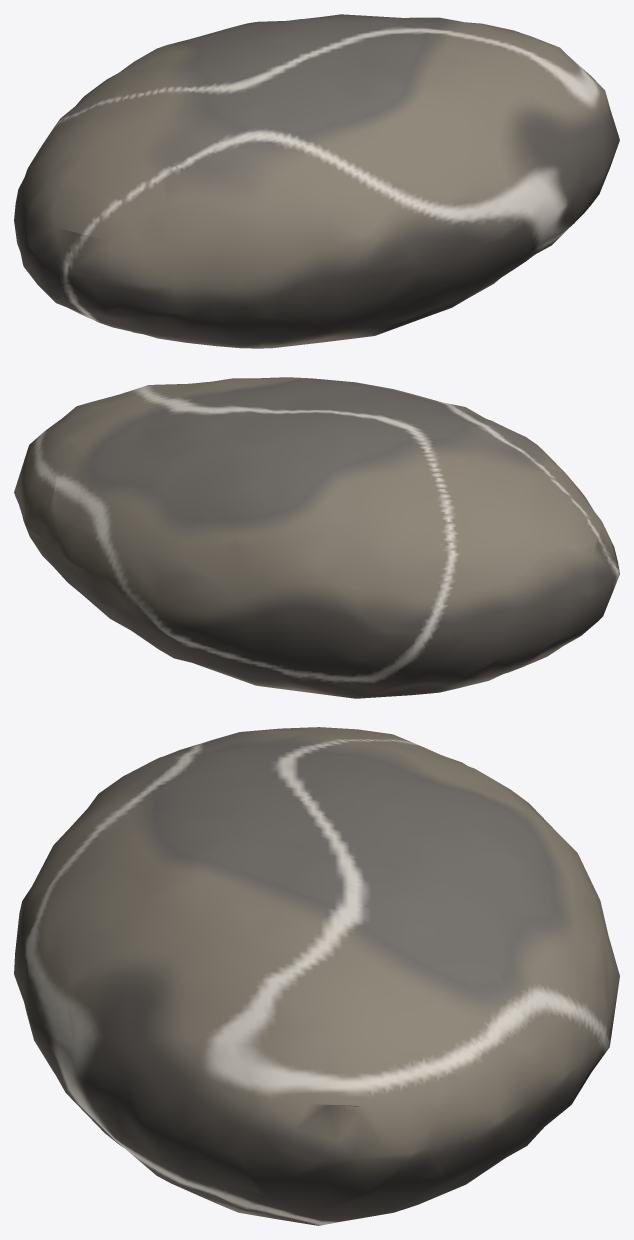
The model's file is piedra_rio.fbx.
3 renders of one model, top to bottom at view 1: azimuth 30°, elevation 25°; view 2: azimuth 150°, elevation 25°; view 3: azimuth 270°, elevation 25°, orthographic. The views are drawn at different scales.
Visible parts, largest first — view 1: piedra_rio; view 2: piedra_rio; view 3: piedra_rio.
Part boxes in pixels (box(x1,y1,x2,y2)): piedra_rio: box(14, 14, 619, 348); piedra_rio: box(14, 377, 619, 698); piedra_rio: box(14, 727, 619, 1225).
Size of the model in its own units: 2.62 by 1.01 by 1.81.
1 material, 1 textured.
